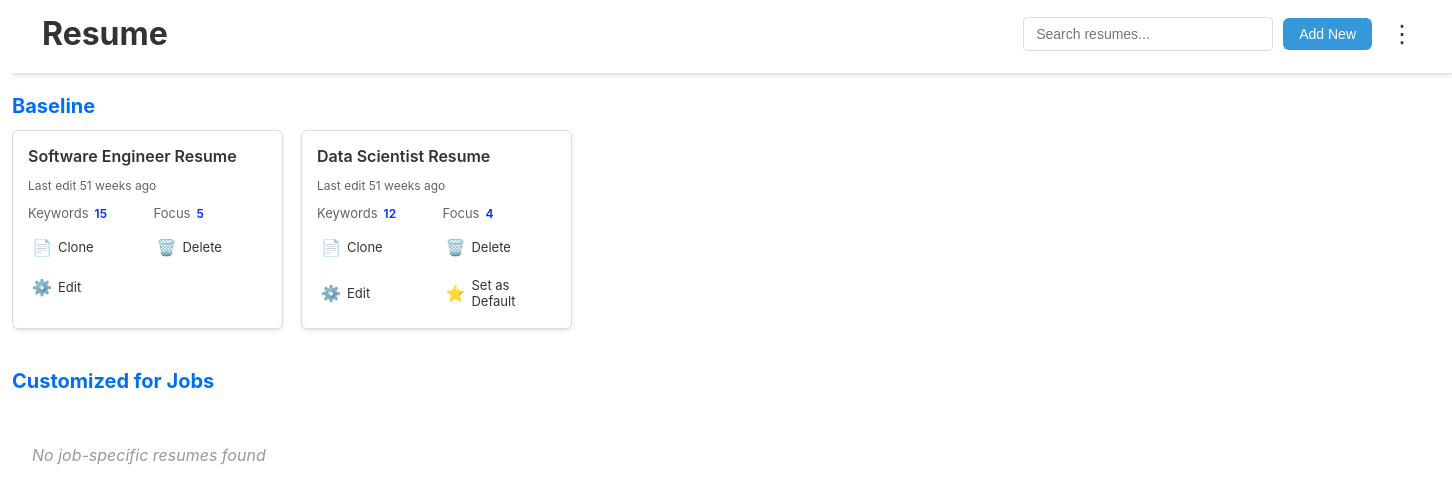
Test: Resume Component › Search Functionality › shows clear search button when searching
The image size is (1452, 482).
Step 1. Type "test" into the field with placeholder "Search resumes..." → (1148, 34), box top-left (1023, 16), bottom-right (1273, 50)
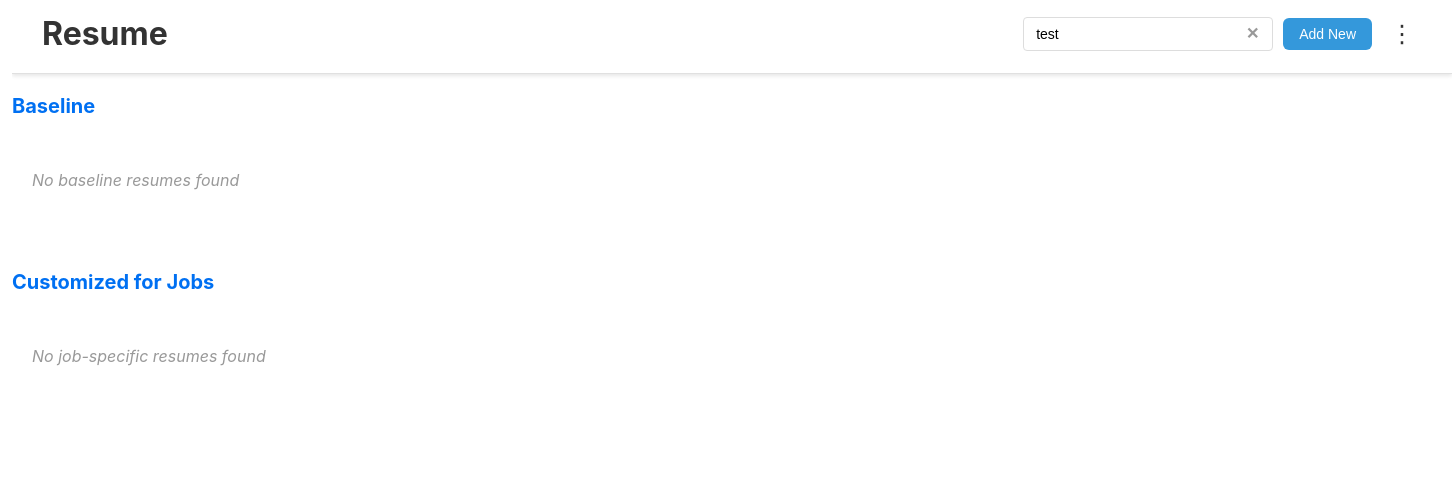
Expected: the button "✕" is shown, top-left (1240, 24), bottom-right (1265, 44)
